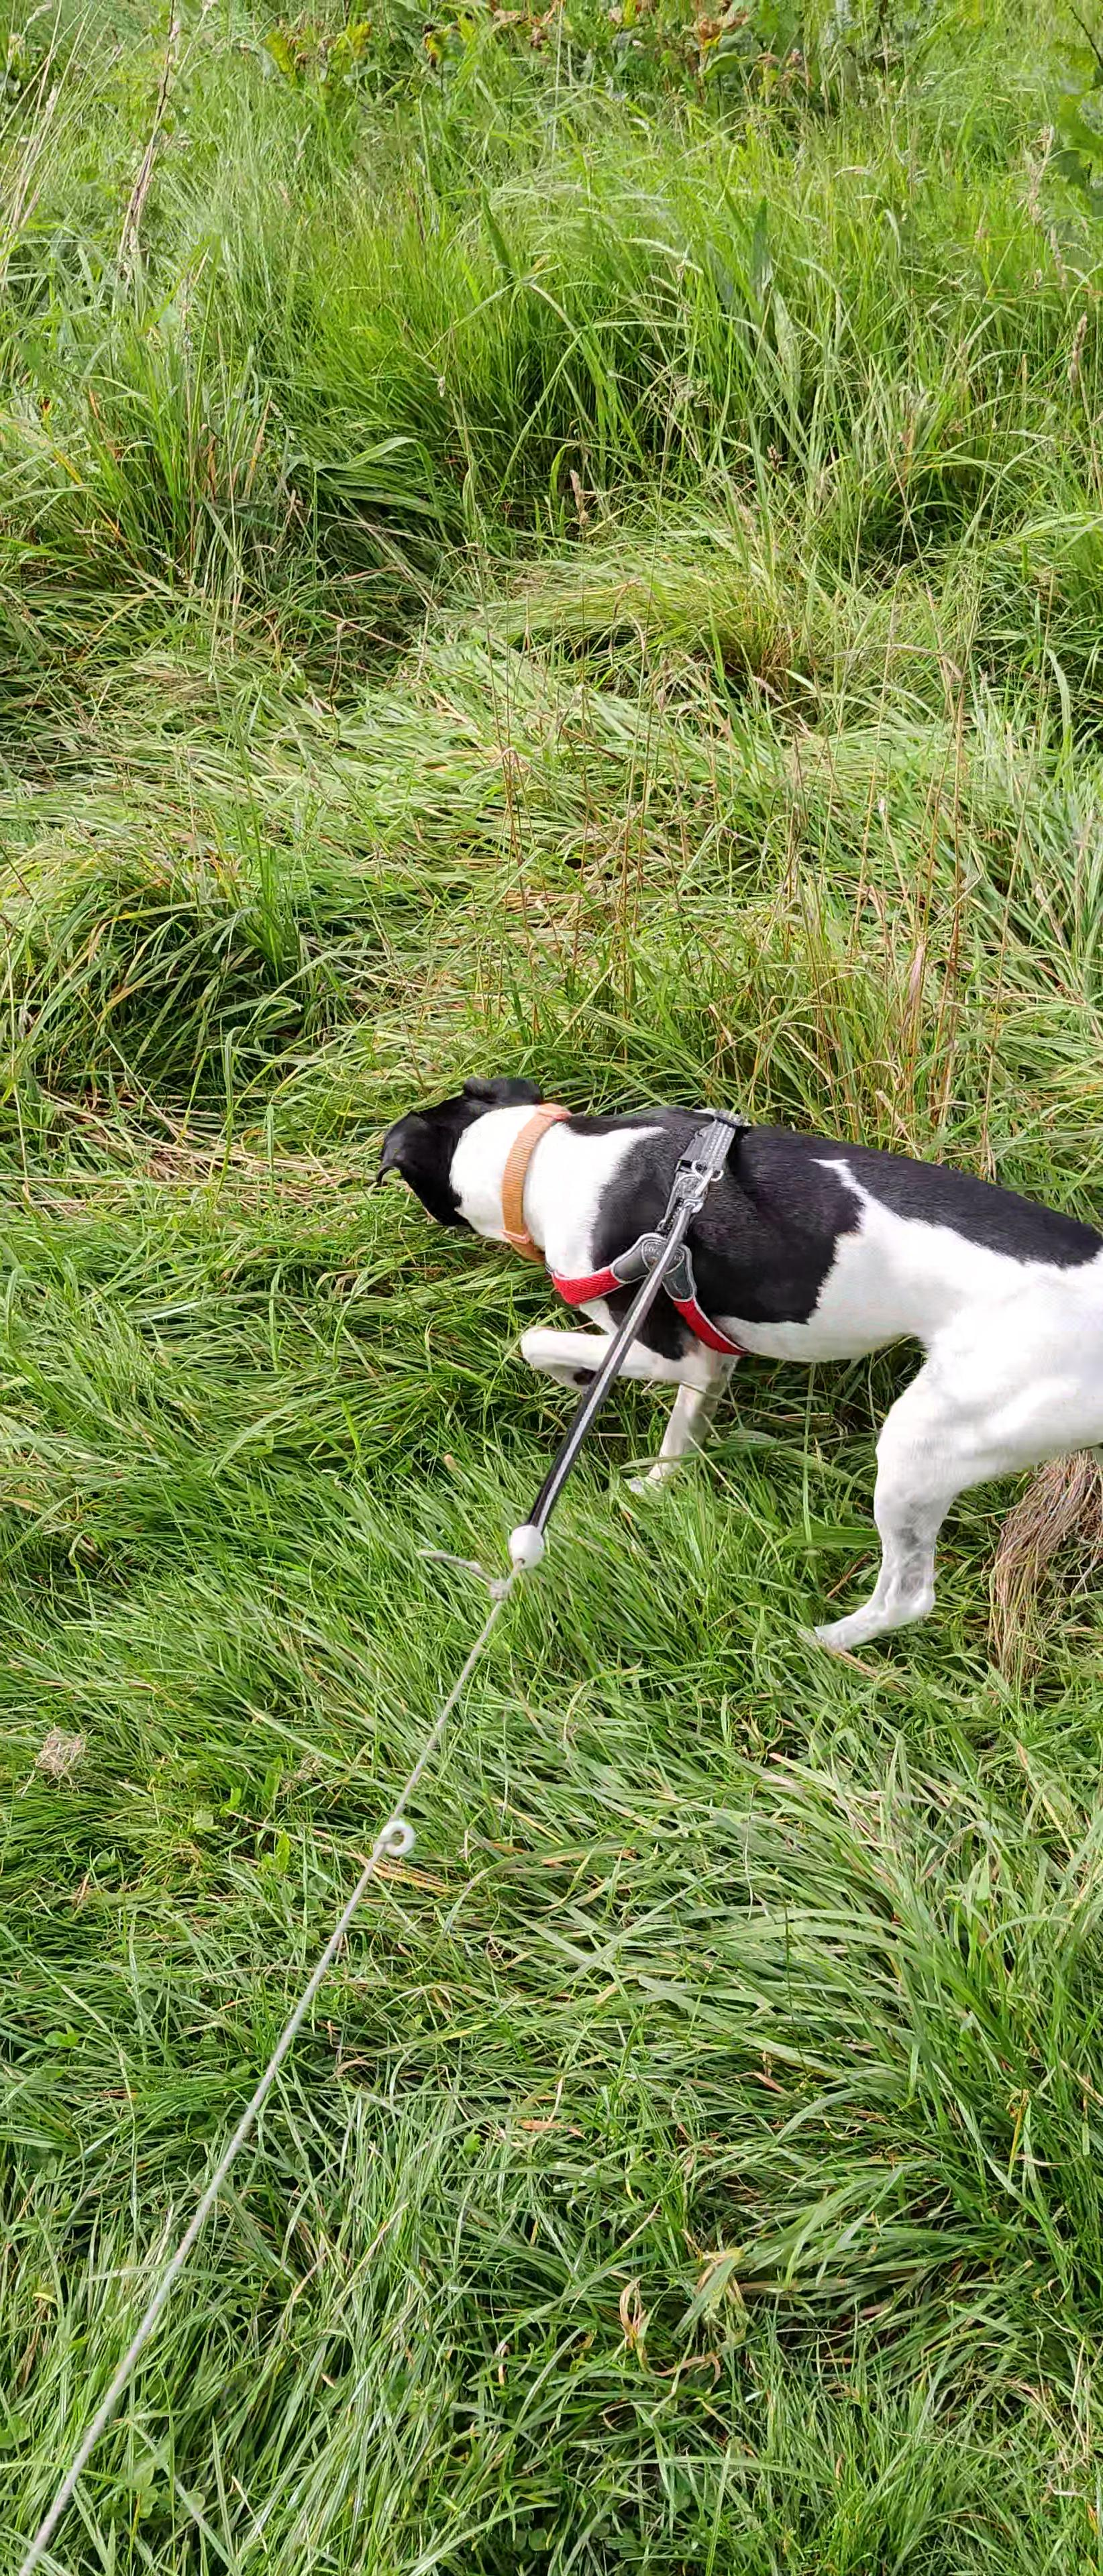Dog: (362, 1071, 1103, 1654)
